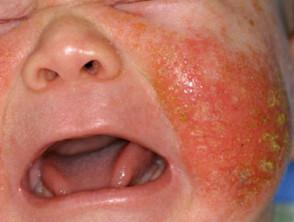Eczema: (262, 132, 284, 153), (269, 88, 284, 110), (257, 160, 279, 175), (236, 170, 250, 187), (175, 106, 188, 124), (274, 114, 288, 130), (263, 180, 278, 193), (256, 113, 272, 125)
